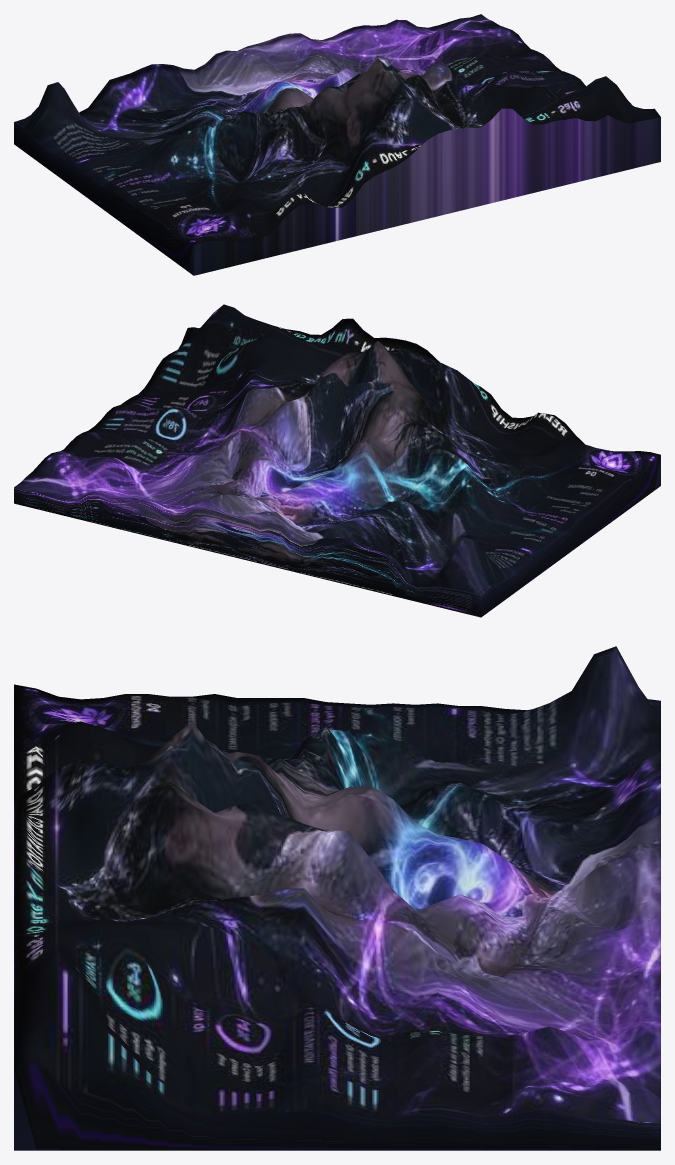
File: RELATIONSHIP_04_Dual_Cultivation.glb
3 views of the same model, one above another, from view 1: azimuth 30°, elevation 25°; view 2: azimuth 150°, elevation 25°; view 3: azimuth 270°, elevation 25° (orthographic). The views are drawn at different scales.
Visible parts, largest first — view 1: RELATIONSHIP_04_Dual_Cultivation; view 2: RELATIONSHIP_04_Dual_Cultivation; view 3: RELATIONSHIP_04_Dual_Cultivation.
Part boxes in pixels (box(x1,y1,x2,y2)): RELATIONSHIP_04_Dual_Cultivation: box(14, 14, 660, 275); RELATIONSHIP_04_Dual_Cultivation: box(14, 304, 660, 617); RELATIONSHIP_04_Dual_Cultivation: box(14, 646, 660, 1150).
Size of the model in its own units: 2 by 0.51 by 1.33.
1 material, 1 textured.
